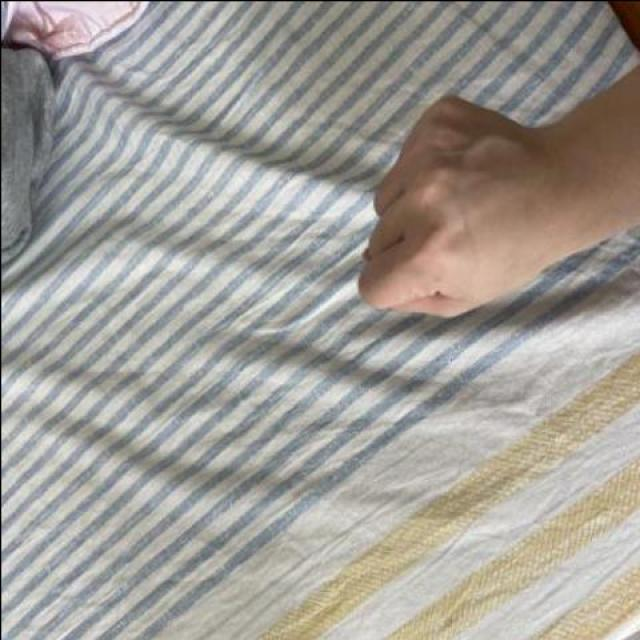Closed Hand: (358, 83, 582, 320)
